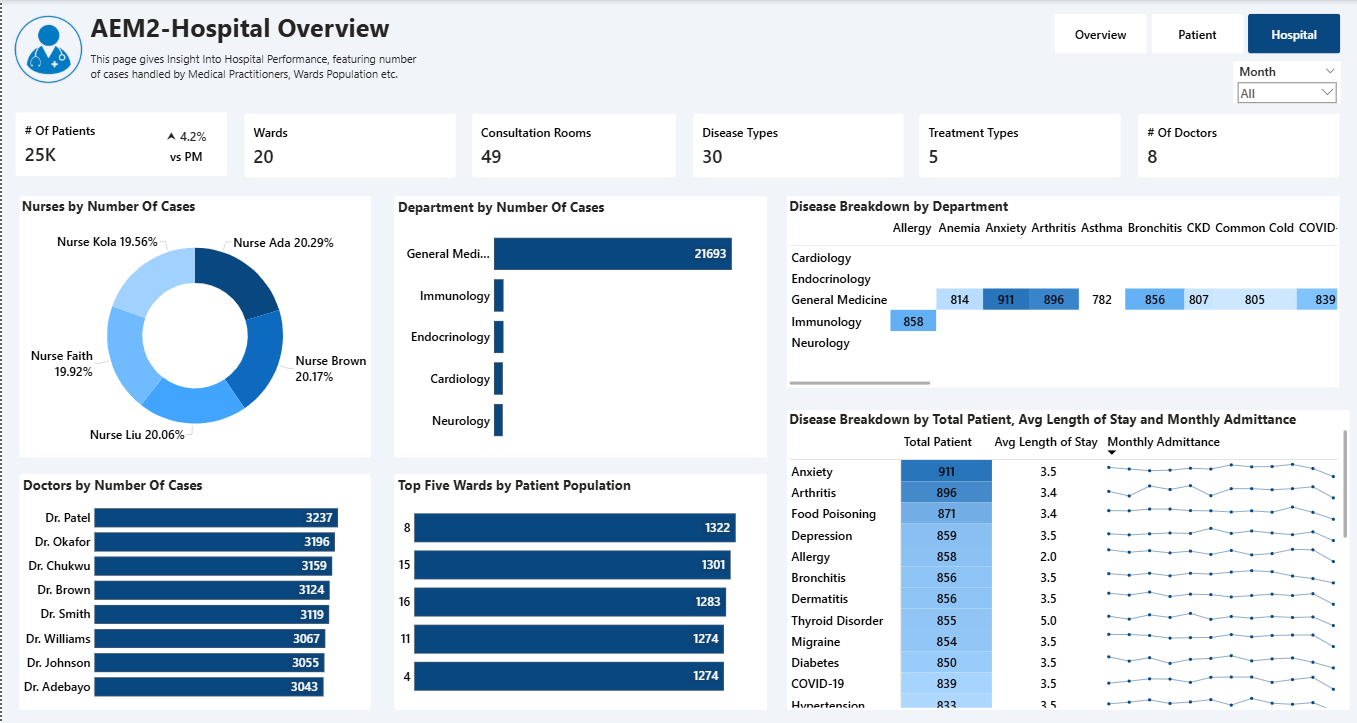

What the dashboard file says about the page in this screenshot:
{"tool":"powerbi","page":{"name":"Hospital","canvas":[3000,1600],"ordinal":2},"visuals":[{"type":"textbox","box":[190.7,16.6,738.1,182.4],"z":0},{"type":"image","box":[13.8,19.4,176.9,179.7],"z":1000},{"type":"pageNavigator","box":[2327.6,30.4,633,88.5],"z":2000},{"type":"barChart","title":"Top Five Wards by Patient Population","fields":{"Category":["Extended_Patient_Attributes.Ward_Number"],"Y":["Extended_Patient_Attributes.Patient_ID"]},"box":[868,1047.7,823.8,522.5],"z":3000},{"type":"pivotTable","title":"Disease Breakdown by Total Patient, Avg Length of Stay and Monthly Admittance ","fields":{"Rows":["Patient_Treatment.Disease"],"Values":["Patient_Treatment.Patient_ID","Patient_Treatment.Length of Stay","SparklineData(CountNonNull(Patient_Treatment.Patient_ID)_[Date Table.Month Name])"]},"box":[1736,906.7,1244,663.4],"z":4000},{"type":"pivotTable","title":"Disease Breakdown by Department","fields":{"Rows":["Patient_Doctors_Dataset.Department"],"Values":["Patient_Doctors_Dataset.Patient_ID"],"Columns":["Patient_Treatment.Disease"]},"box":[1736,434,1221.8,422.9],"z":5000},{"type":"cardVisual","fields":{"Data":["Patient_Treatment.Treatment_Type"]},"box":[2030.1,251.6,445.1,141],"z":6000},{"type":"cardVisual","fields":{"Data":["Patient_Doctors_Dataset.Doctor_Attending"]},"box":[2512.8,251.6,445.1,141],"z":7000},{"type":"cardVisual","fields":{"Data":["Patient_Doctors_Dataset.Consultation_Room"]},"box":[1040,251.6,450.6,141],"z":8000},{"type":"cardVisual","fields":{"Data":["Extended_Patient_Attributes.Ward_Number"]},"box":[535.2,251.6,467.2,141],"z":9000},{"type":"cardVisual","fields":{"Data":["Patient_Treatment.Disease"]},"box":[1528.1,251.6,464.4,141],"z":10000},{"type":"slicer","fields":{"Values":["Date Table.Month Name"]},"box":[2722.9,135.5,237.7,94],"z":11000},{"type":"cardVisual","fields":{"Data":["Patient_Treatment.Patient_ID"]},"box":[30.4,248.8,467.2,141],"z":12000},{"type":"barChart","title":"Department by Number Of Cases","fields":{"Category":["Patient_Doctors_Dataset.Department"],"Y":["Patient_Doctors_Dataset.Patient_ID"]},"box":[868,434,823.8,577.8],"z":13000},{"type":"donutChart","title":"Nurses by Number Of Cases","fields":{"Category":["Extended_Patient_Attributes.Nurse"],"Y":["Extended_Patient_Attributes.Patient_ID"]},"box":[38.7,434,776.8,577.8],"z":14000},{"type":"card","fields":{"Values":["Patient_Treatment.MoM % difference"]},"box":[221.1,265.4,237.7,110.6],"z":16000},{"type":"barChart","title":"Doctors by Number Of Cases","fields":{"Category":["Patient_Doctors_Dataset.Doctor_Attending"],"Y":["Patient_Doctors_Dataset.Patient_ID"]},"box":[38.7,1047.7,776.8,522.5],"z":17001}]}

Visuals, with their boxes in screenshot pixels (x1, y1, x2, y2), scaled from the page's 3000x1600 canvas onto the 1357x723 screenshot:
textbox: 86:8:420:90
image: 6:9:86:90
pageNavigator: 1053:14:1339:54
"Top Five Wards by Patient Population" barChart: 393:473:765:710
"Disease Breakdown by Total Patient, Avg Length of Stay and Monthly Admittance " pivotTable: 785:410:1348:709
"Disease Breakdown by Department" pivotTable: 785:196:1338:387
cardVisual - Patient_Treatment.Treatment_Type: 918:114:1120:177
cardVisual - Patient_Doctors_Dataset.Doctor_Attending: 1137:114:1338:177
cardVisual - Patient_Doctors_Dataset.Consultation_Room: 470:114:674:177
cardVisual - Extended_Patient_Attributes.Ward_Number: 242:114:453:177
cardVisual - Patient_Treatment.Disease: 691:114:901:177
slicer - Date Table.Month Name: 1232:61:1339:104
cardVisual - Patient_Treatment.Patient_ID: 14:112:225:176
"Department by Number Of Cases" barChart: 393:196:765:457
"Nurses by Number Of Cases" donutChart: 18:196:369:457
card - Patient_Treatment.MoM % difference: 100:120:208:170
"Doctors by Number Of Cases" barChart: 18:473:369:710
